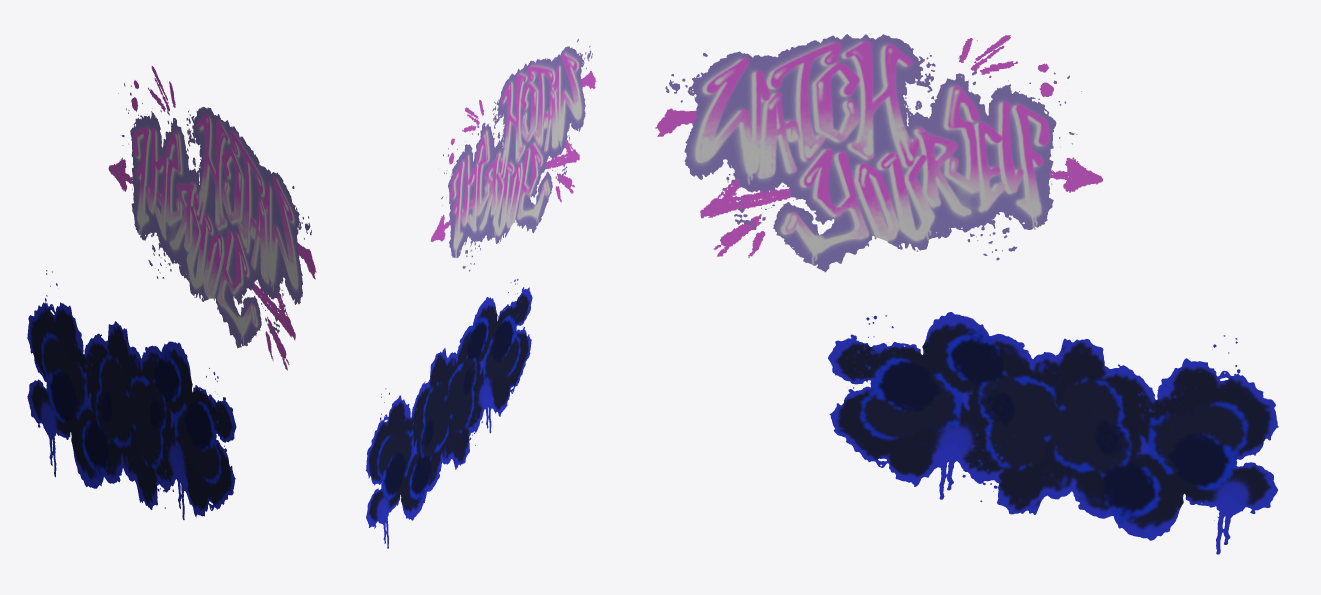
File: graffiti.fbx
The picture shows the model from 3 angles, left to right: view 1: azimuth 30°, elevation 25°; view 2: azimuth 150°, elevation 25°; view 3: azimuth 270°, elevation 25°; orthographic projection. The views are drawn at different scales.
Visible parts, largest first — view 1: Plane.001, Plane; view 2: Plane.001, Plane; view 3: Plane.001, Plane.
Part boxes in pixels (box(x1,y1,x2,y2)): Plane.001: box(27, 270, 236, 519); Plane: box(108, 66, 316, 370); Plane.001: box(366, 279, 532, 548); Plane: box(430, 38, 596, 271); Plane.001: box(828, 312, 1278, 554); Plane: box(655, 34, 1102, 272).
Size of the model in its own units: 0.000131 by 987 by 1063.
